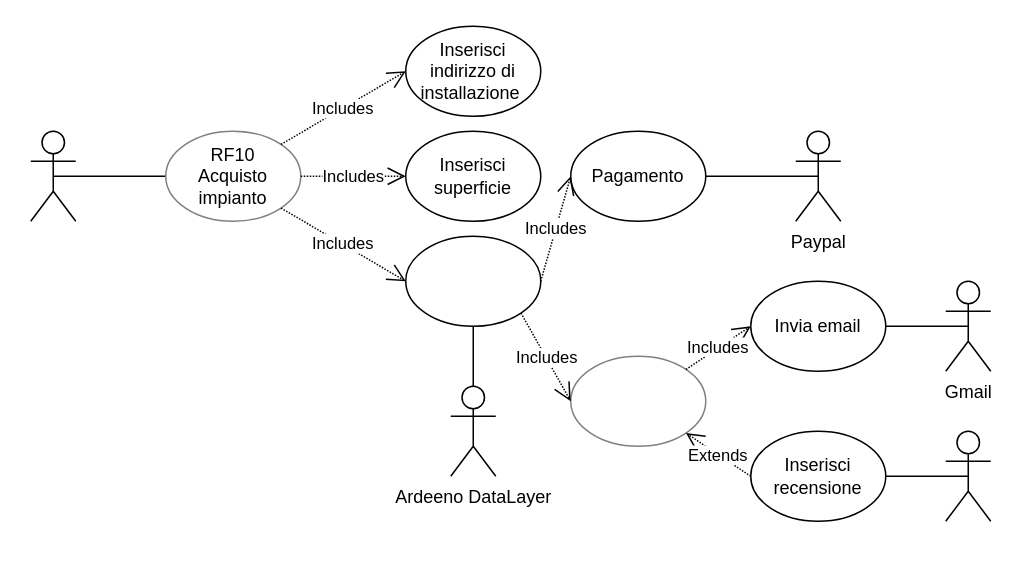
Image size: 1032x579. Some labels were removed from this diagram. The centre of each missing label's shape, as x and y in pixels:
Cliente: point (52, 175)
Invia form: point (472, 280)
RF16 Richiesta recensione: point (637, 400)
TrustPilot: point (967, 475)
